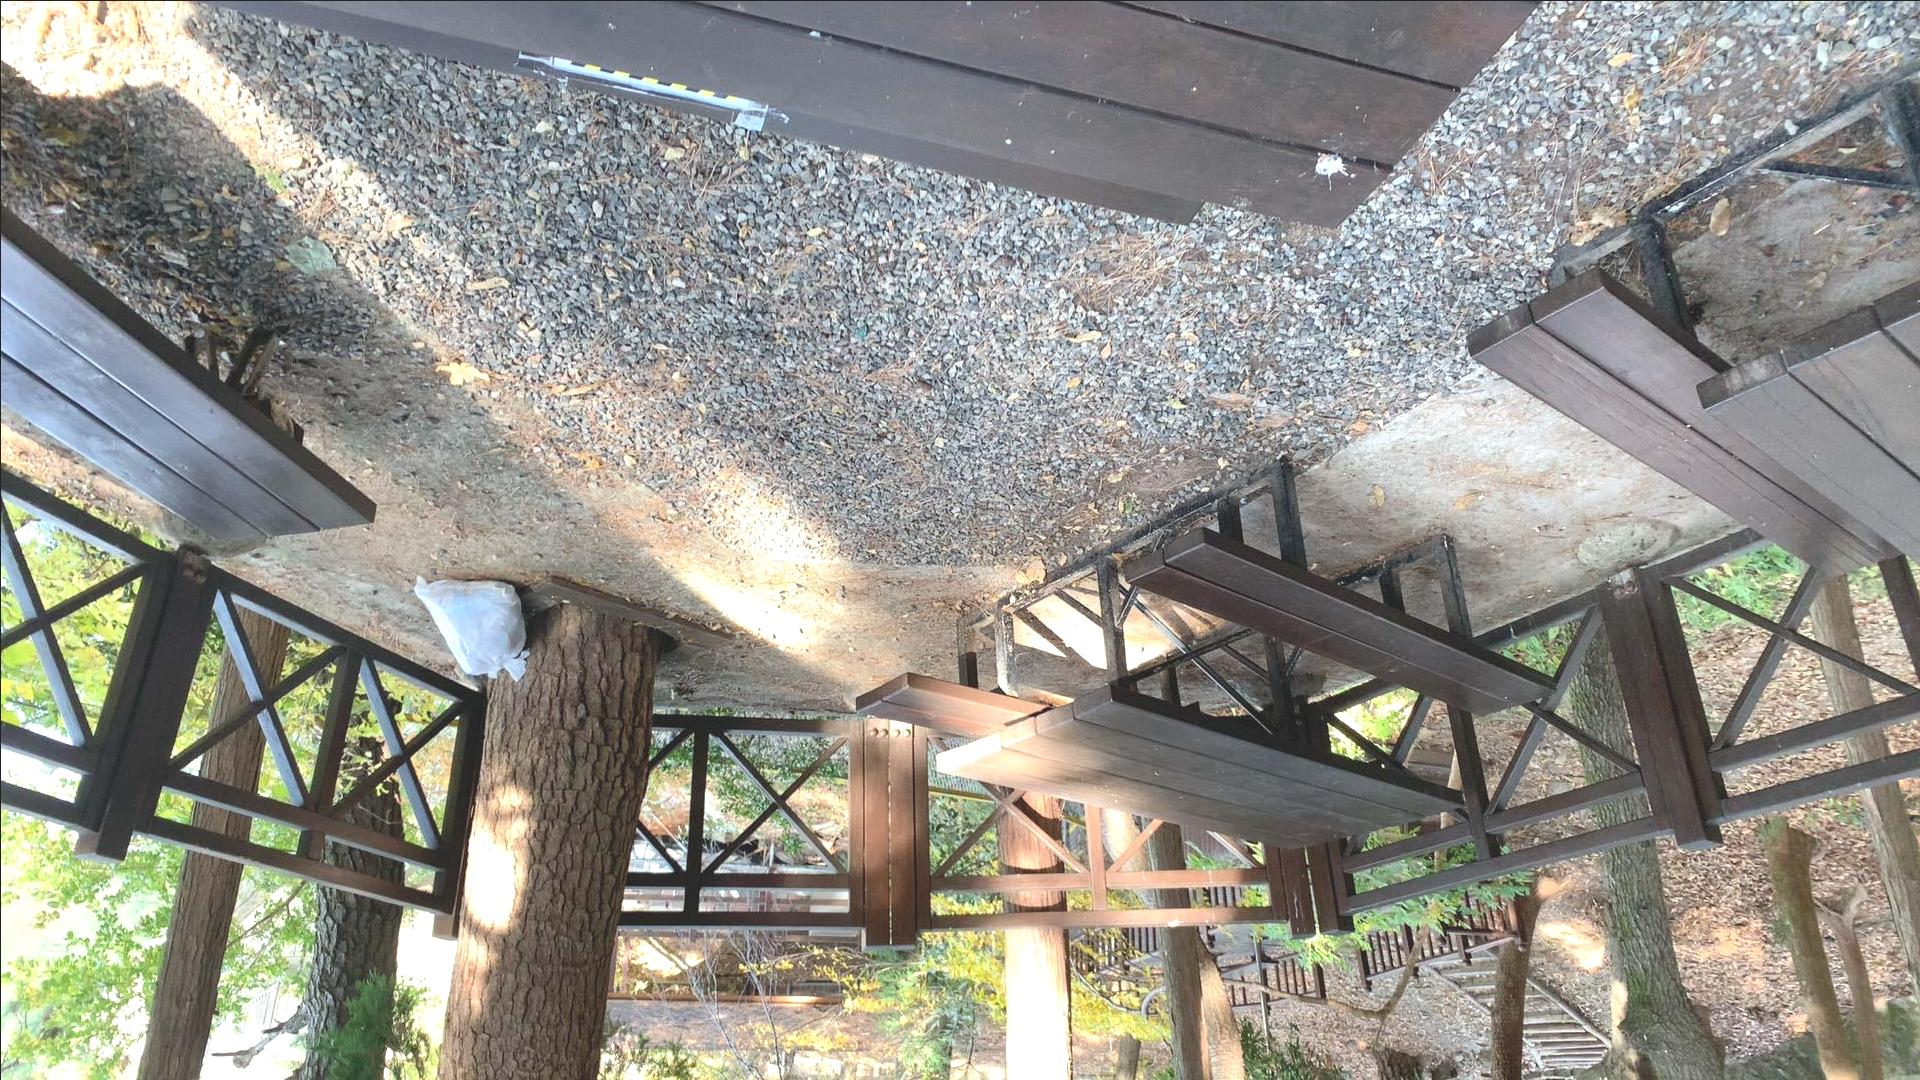white_bag: (407, 570, 534, 686)
